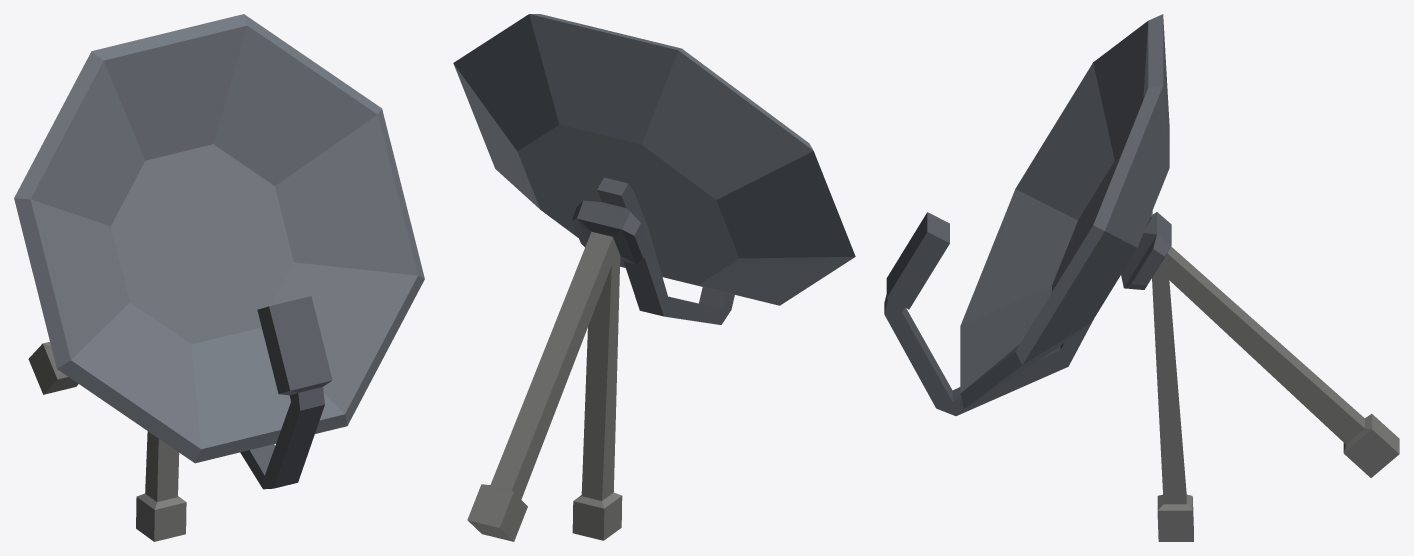
The model's file is SM_Prop_SatelliteDish_02.fbx.
3 views of the same model, side by side, from view 1: azimuth 30°, elevation 25°; view 2: azimuth 150°, elevation 25°; view 3: azimuth 270°, elevation 25° (orthographic). The views are drawn at different scales.
Visible parts, largest first — view 1: SM_Prop_SatelliteDish_02; view 2: SM_Prop_SatelliteDish_02; view 3: SM_Prop_SatelliteDish_02.
Boxes of the visible parts, left/top/right/bottom form: SM_Prop_SatelliteDish_02: left=14, top=14, right=424, bottom=541; SM_Prop_SatelliteDish_02: left=453, top=14, right=855, bottom=541; SM_Prop_SatelliteDish_02: left=884, top=14, right=1399, bottom=541.
Size of the model in its own units: 139 by 181 by 175.
